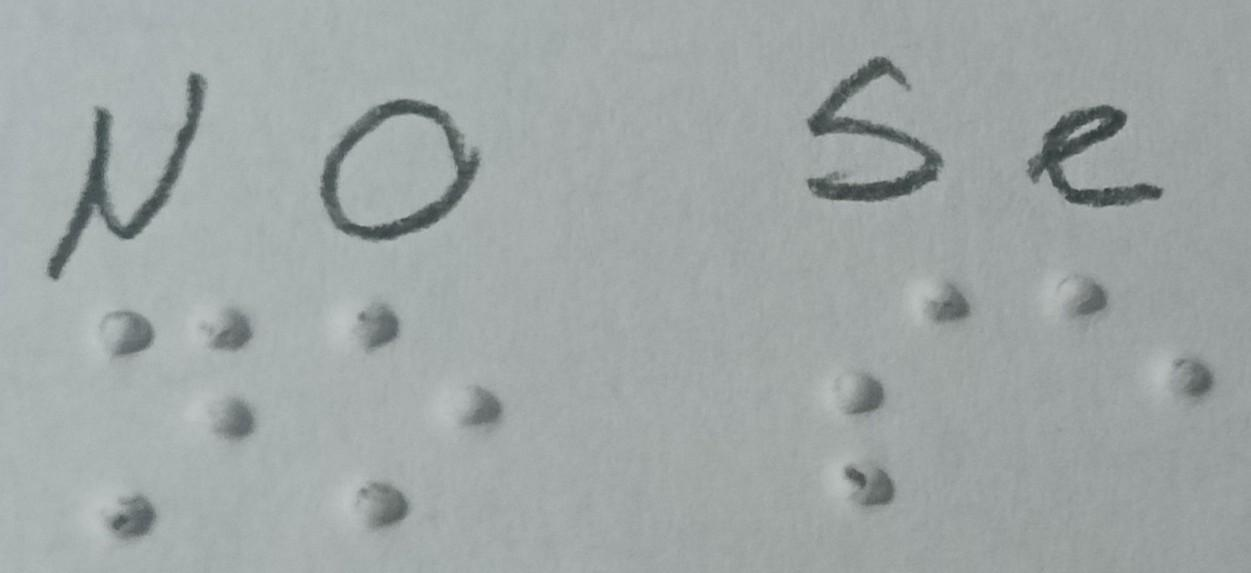e: (1019, 257, 1240, 454)
n: (84, 277, 263, 556)
o: (281, 277, 519, 551)
s: (793, 259, 994, 517)
